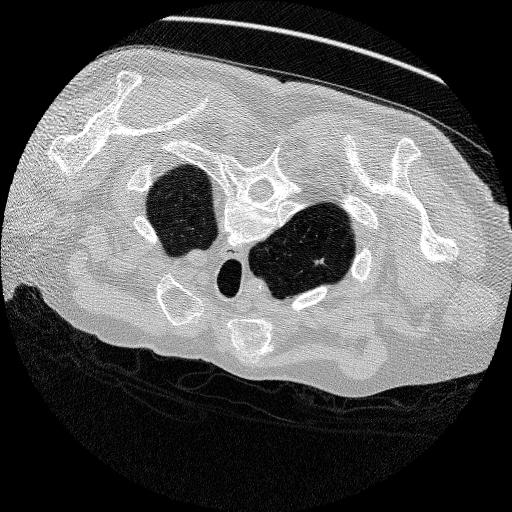nodule: (313, 255, 329, 271)
